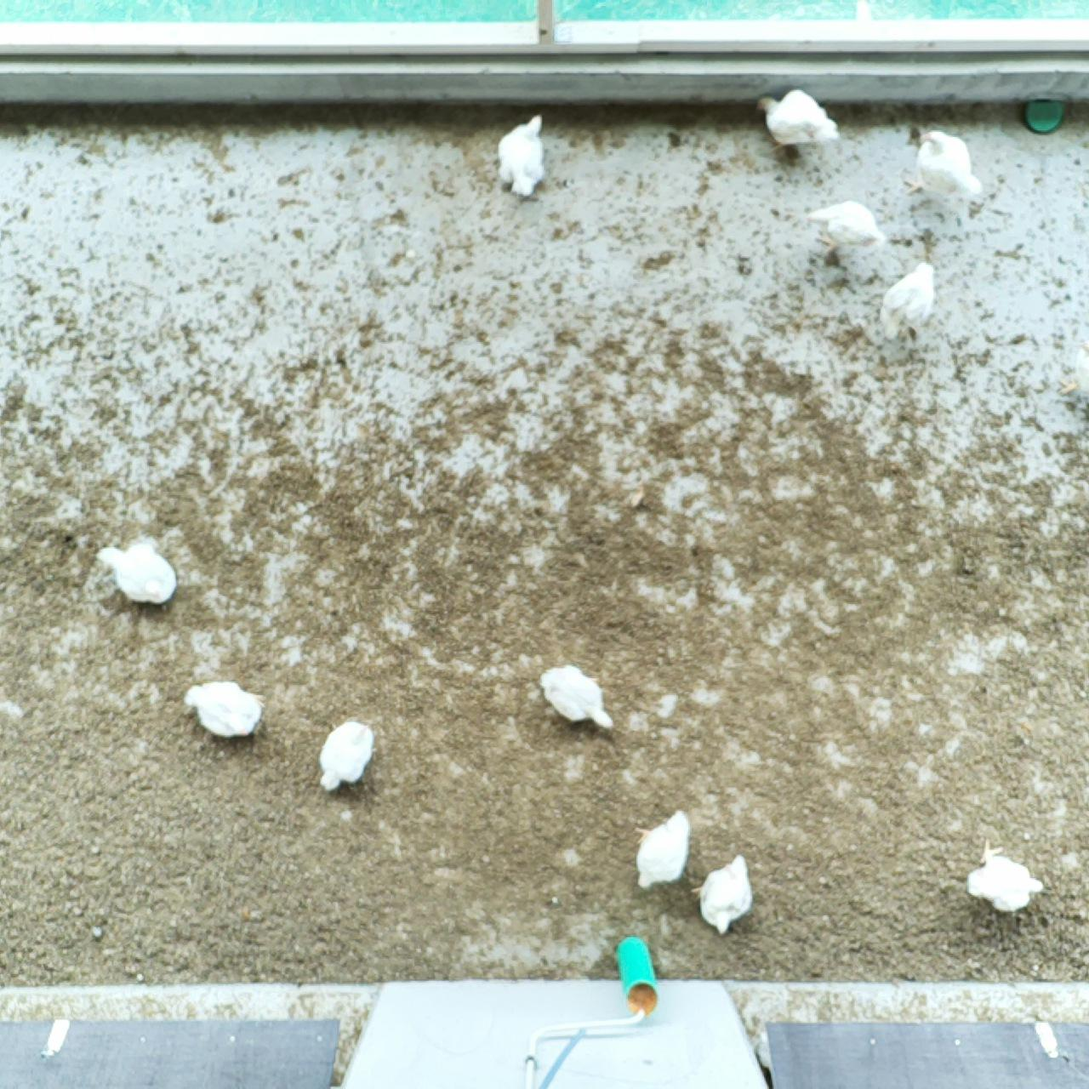chicken: (901, 122, 983, 207), (962, 839, 1045, 915), (751, 84, 839, 153), (876, 258, 945, 343), (94, 543, 180, 608), (539, 659, 611, 733), (691, 851, 755, 934), (183, 676, 266, 739), (634, 808, 694, 893), (806, 199, 886, 261), (316, 717, 377, 796), (494, 112, 547, 201)
